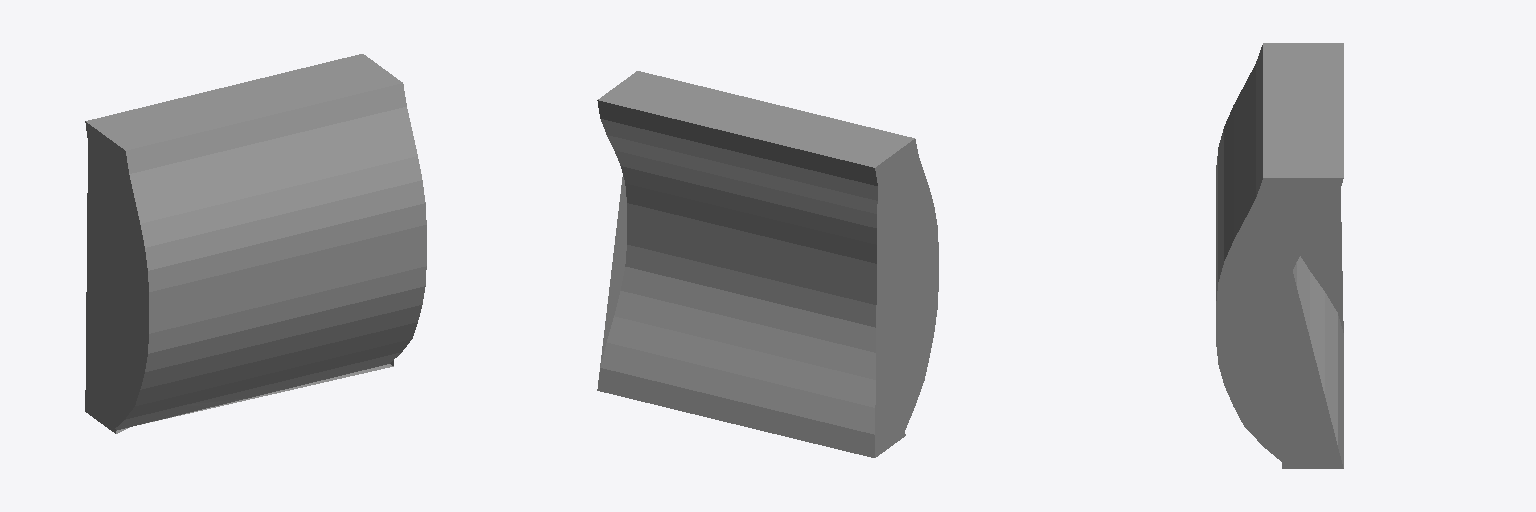
File: ShakeHitObject.obj
The picture shows the model from 3 angles: view 1: azimuth 30°, elevation 25°; view 2: azimuth 150°, elevation 25°; view 3: azimuth 270°, elevation 25°; orthographic projection.
Visible parts, largest first — view 1: Cube; view 2: Cube; view 3: Cube.
Part boxes in pixels (left/top/right/bottom): Cube: left=85, top=54, right=426, bottom=433; Cube: left=597, top=71, right=938, bottom=457; Cube: left=1216, top=43, right=1343, bottom=468.
Size of the model in its own units: 8 by 8 by 3.18.